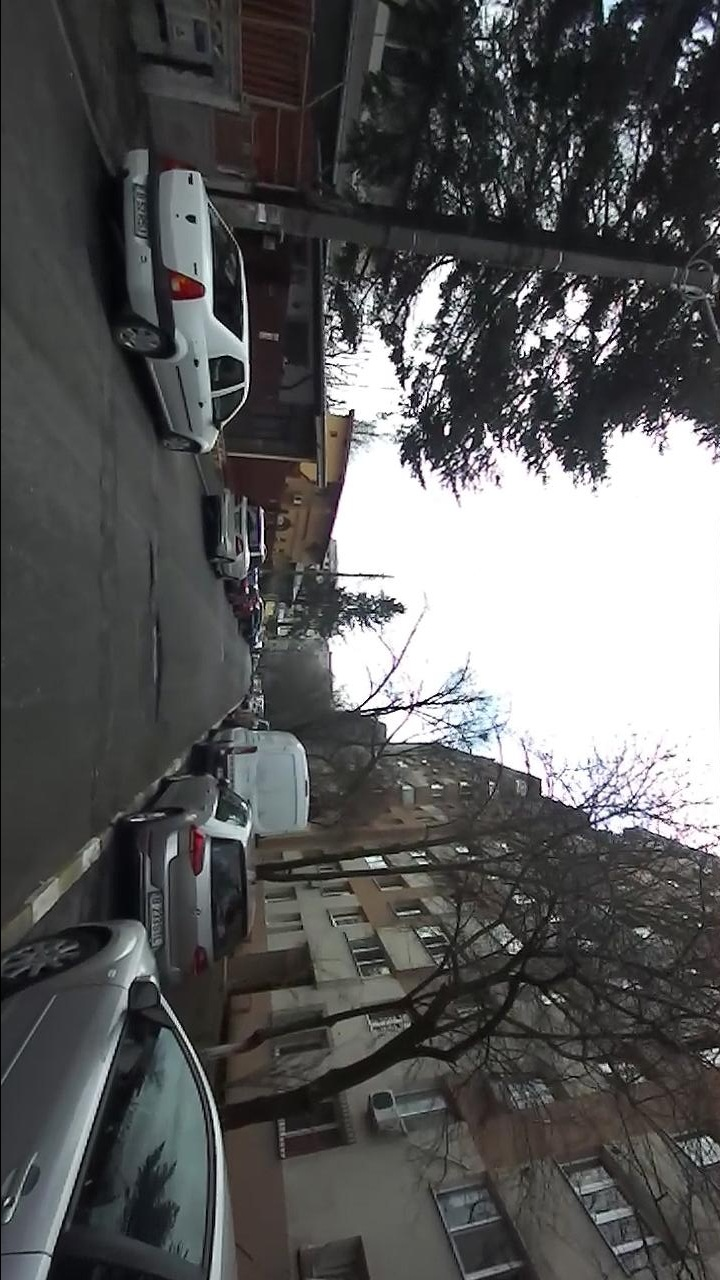pothole: (146, 611, 166, 724), (144, 540, 158, 608)
